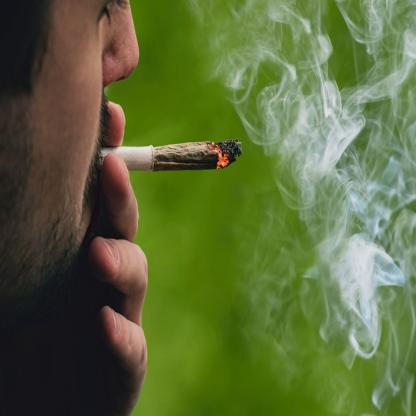cigarette: (104, 134, 244, 174)
smoke: (254, 0, 415, 355)
